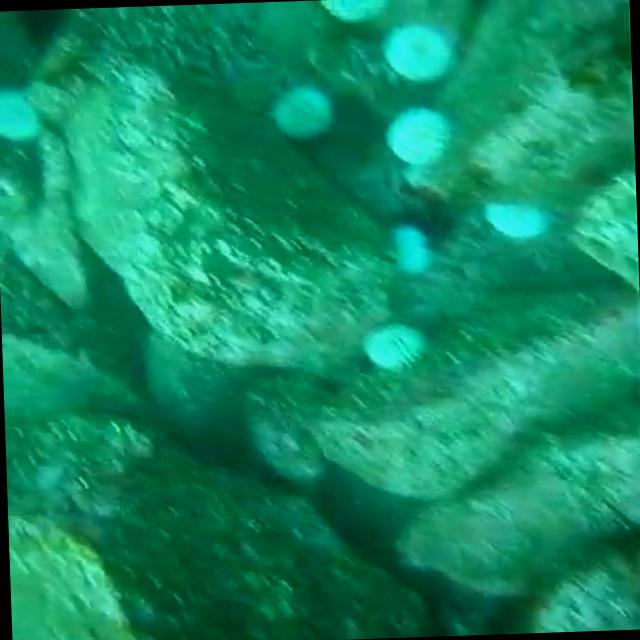Deniz Kestanesi: (379, 99, 446, 169), (266, 84, 340, 147), (377, 25, 451, 87), (352, 320, 431, 373), (478, 191, 550, 247), (379, 215, 434, 280), (0, 88, 42, 148)
